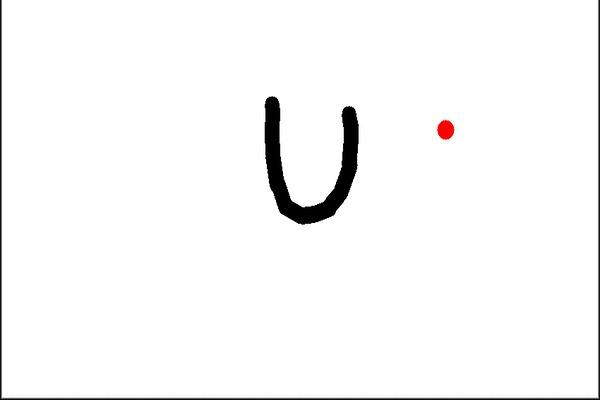U: (252, 85, 379, 229)
